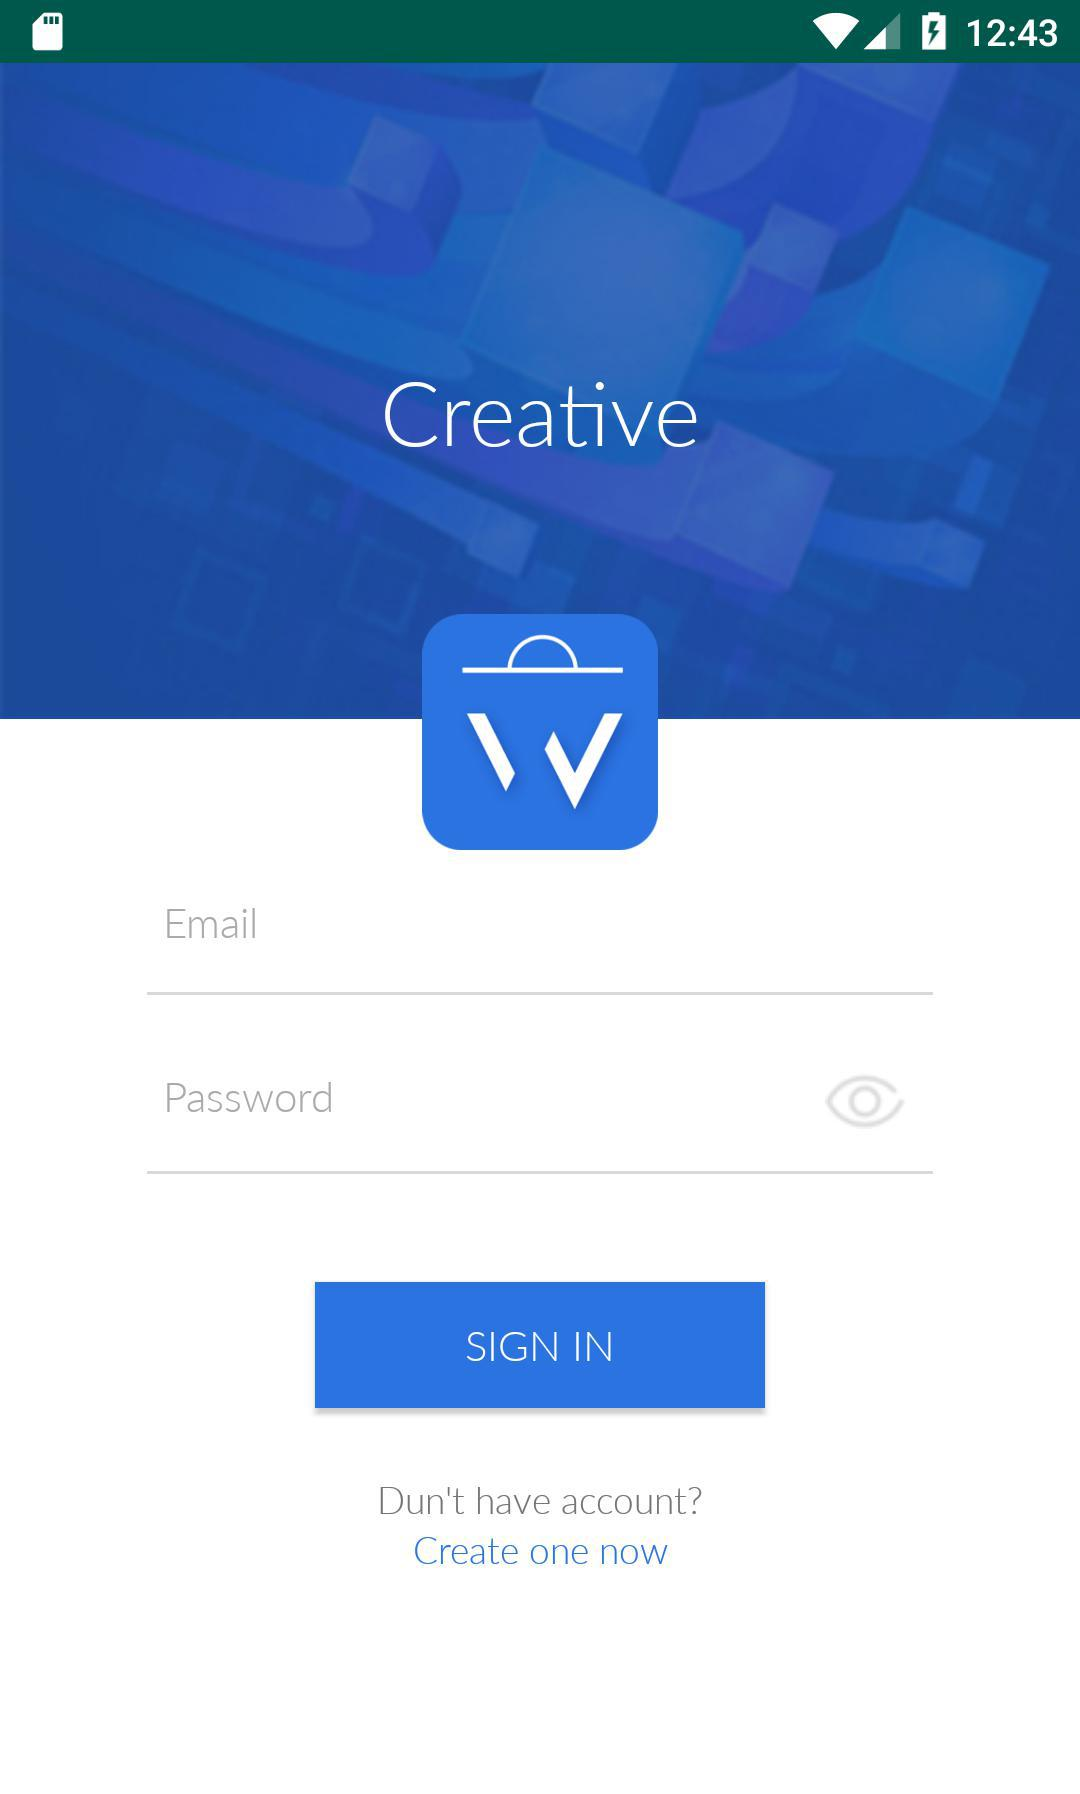EditText: (147, 1075, 934, 1176), (147, 909, 934, 996)
Icon: (825, 1075, 906, 1129)
Image: (1, 63, 1077, 719), (421, 613, 659, 851)
Text: (384, 381, 698, 450), (380, 1486, 702, 1516), (415, 1536, 669, 1566), (167, 1082, 333, 1114), (167, 909, 258, 941)
TextButton: (315, 1281, 766, 1410)
UpperTaskBar: (1, 1, 1080, 63)
